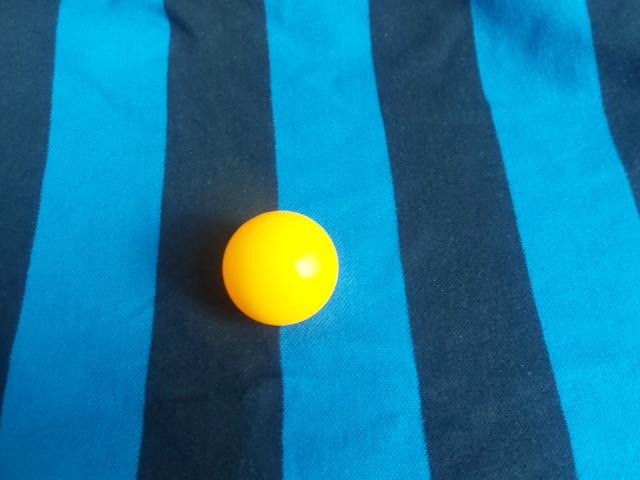oball: (291, 146, 427, 278)
